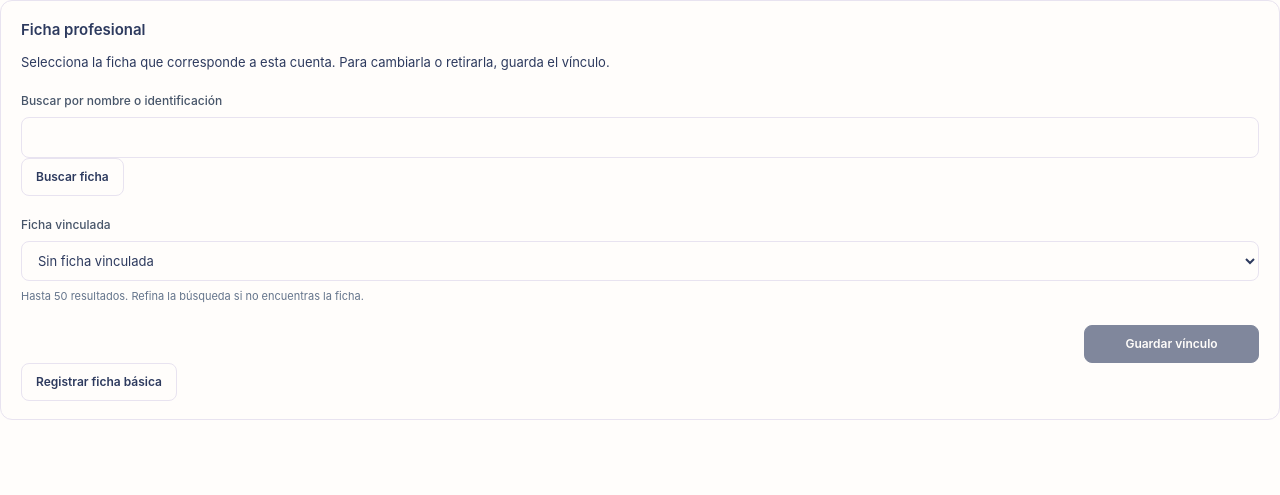
Scenario: explica una ficha ocupada y bloquea una edición obsoleta
Step 1. Select "Profesional de prueba · P-01" in the dropdown labelled "Ficha vinculada" → (640, 261), box [21,241,1259,281]
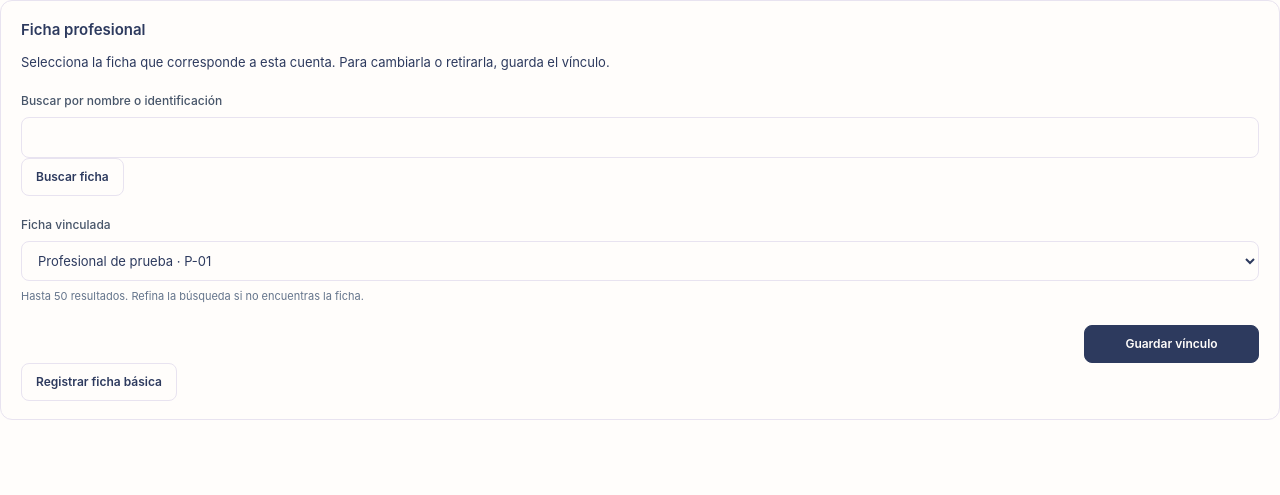
Step 2. Click the button "Guardar vínculo" → (1172, 344), box [1084,325,1259,363]
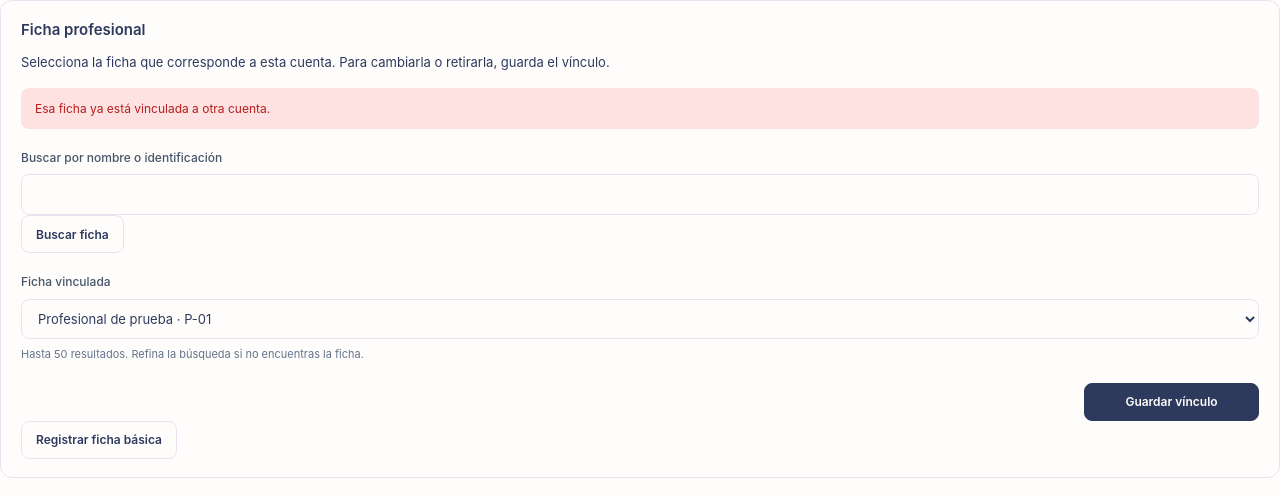
Now the message shows "otra cuenta", box [35,101,270,116]
Step 3. Click the button "Guardar vínculo" → (1172, 402), box [1084,382,1259,420]
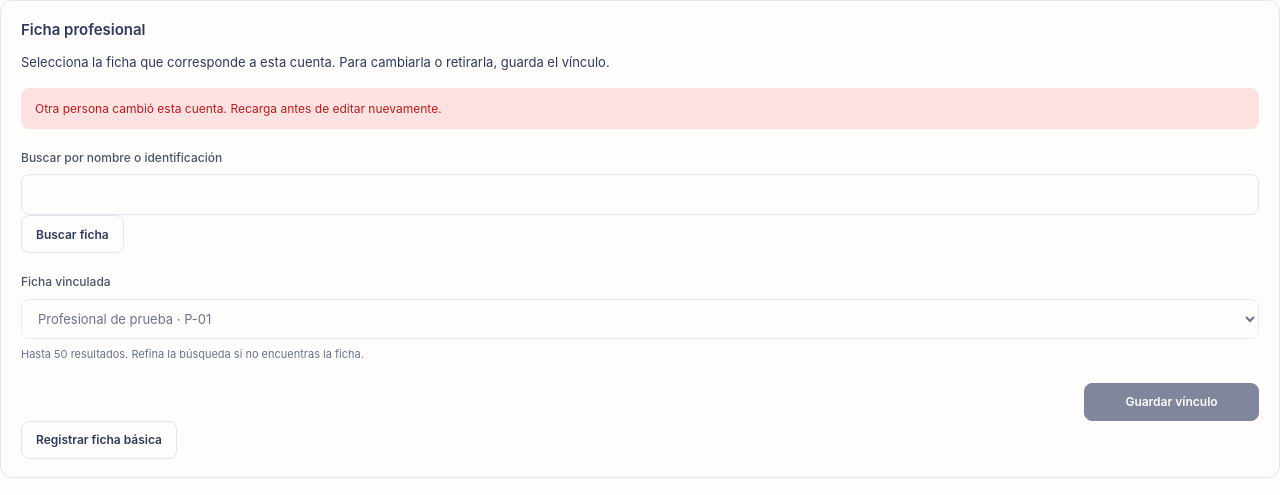
Now the message shows "Recarga", box [35,101,442,116]
Now the button "Guardar vínculo" is disabled, box [1084,382,1259,420]
